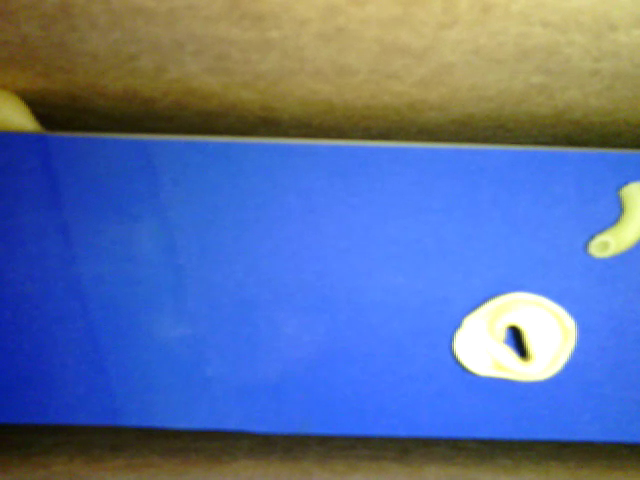elbow: (585, 180, 639, 260)
shell: (1, 89, 46, 135)
tortellini: (451, 289, 578, 385)
